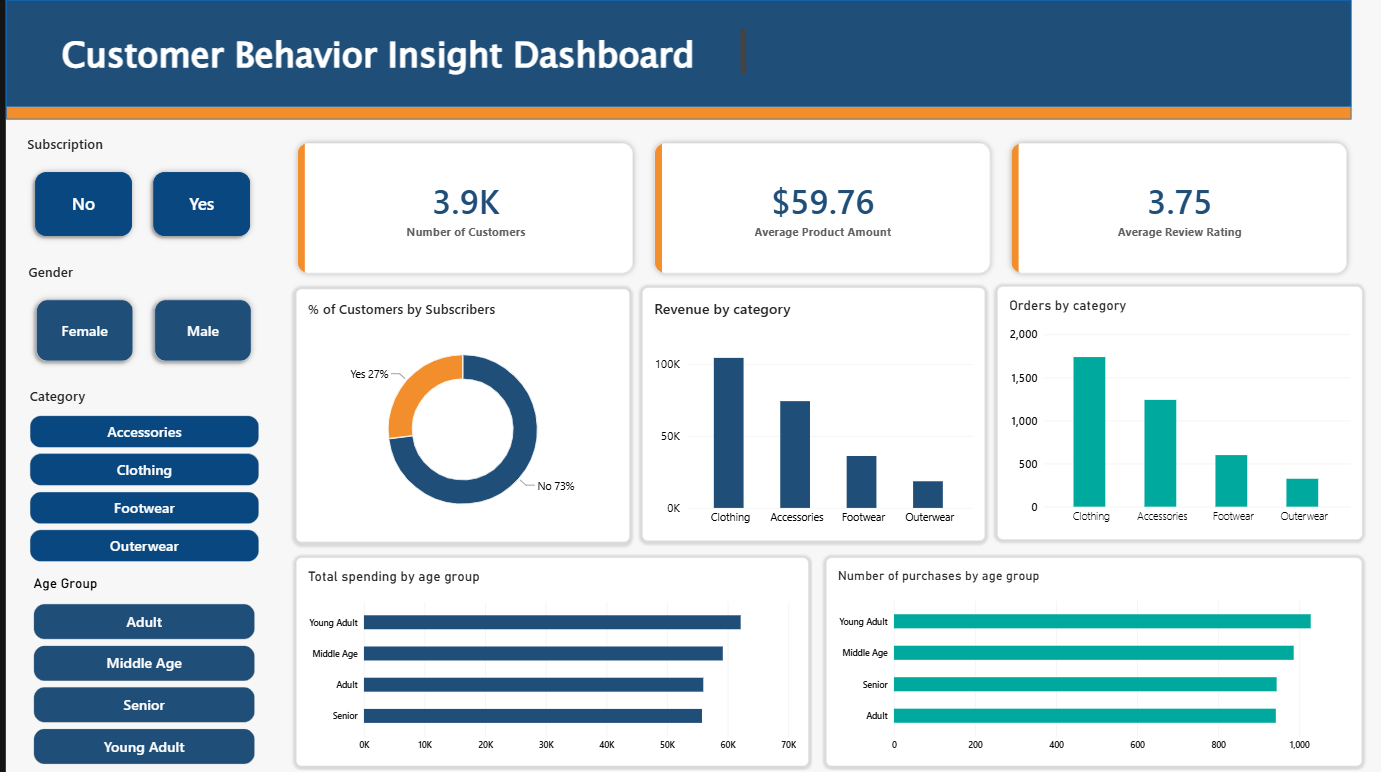

The page's visual inventory and layout, read from the dashboard file:
{"tool":"powerbi","page":{"name":"Page 1","canvas":[1920,1080],"ordinal":0},"visuals":[{"type":"cardVisual","fields":{"Data":["customer_behavior customer.Number of Customers","customer_behavior customer.Average Product Amount","customer_behavior customer.Average Review Rating"]},"box":[395.9,188.4,1487.8,204.1],"z":0},{"type":"donutChart","title":"% of Customers by Subscribers","fields":{"Category":["customer_behavior customer.subscription_status"],"Y":["CountNonNull(customer_behavior customer.customer_id)"]},"box":[404.1,403.4,465.6,353.4],"z":1000},{"type":"clusteredColumnChart","title":"Revenue by category ","fields":{"Category":["customer_behavior customer.category"],"Y":["Sum(customer_behavior customer.purchase_amount)"]},"box":[888.1,401.6,478.5,353.4],"z":2000},{"type":"clusteredColumnChart","title":"Orders by category ","fields":{"Category":["customer_behavior customer.category"],"Y":["CountNonNull(customer_behavior customer.customer_id)"]},"box":[1383.2,399.7,509.8,353.4],"z":3000},{"type":"advancedSlicerVisual","title":"Subscription","fields":{"Values":["customer_behavior customer.subscription_status"]},"box":[29.4,187.7,322.1,152.8],"z":4000},{"type":"advancedSlicerVisual","title":"Gender","fields":{"Values":["customer_behavior customer.gender"]},"box":[31.3,366.3,322.1,149.1],"z":5000},{"type":"advancedSlicerVisual","title":"Category","fields":{"Values":["customer_behavior customer.category"]},"box":[33.1,539.3,320.2,248.5],"z":6000},{"type":"clusteredBarChart","title":"Total spending by age group","fields":{"Category":["customer_behavior customer.age_group"],"Y":["Sum(customer_behavior customer.purchase_amount)"]},"box":[404.3,777.6,715.1,291.3],"z":7000},{"type":"clusteredBarChart","title":"Number of purchases by age group","fields":{"Category":["customer_behavior customer.age_group"],"Y":["CountNonNull(customer_behavior customer.purchase_amount)"]},"box":[1143.8,777.6,748.3,291.3],"z":8000},{"type":"shape","box":[0,0,1877.3,149.1],"z":8500},{"type":"advancedSlicerVisual","title":"Age Group ","fields":{"Values":["customer_behavior customer.age_group"]},"box":[38.7,802.5,309.2,265],"z":9000},{"type":"shape","box":[0,149.1,1877.3,18.4],"z":11000},{"type":"textbox","box":[99.4,40.5,762,68.1],"z":12500}]}

Visuals, with their boxes in screenshot pixels (x1, y1, x2, y2), scaled from the page's 1920x1080 canvas onto the 1381x772 screenshot:
cardVisual - customer_behavior customer.Number of Customers x customer_behavior customer.Average Product Amount: 285/135/1355/281
"% of Customers by Subscribers" donutChart: 291/288/626/541
"Revenue by category " clusteredColumnChart: 639/287/983/540
"Orders by category " clusteredColumnChart: 995/286/1362/538
"Subscription" advancedSlicerVisual: 21/134/253/243
"Gender" advancedSlicerVisual: 23/262/254/368
"Category" advancedSlicerVisual: 24/385/254/563
"Total spending by age group" clusteredBarChart: 291/556/805/764
"Number of purchases by age group" clusteredBarChart: 823/556/1361/764
shape: 0/0/1350/107
"Age Group " advancedSlicerVisual: 28/574/250/763
shape: 0/107/1350/120
textbox: 71/29/620/78
